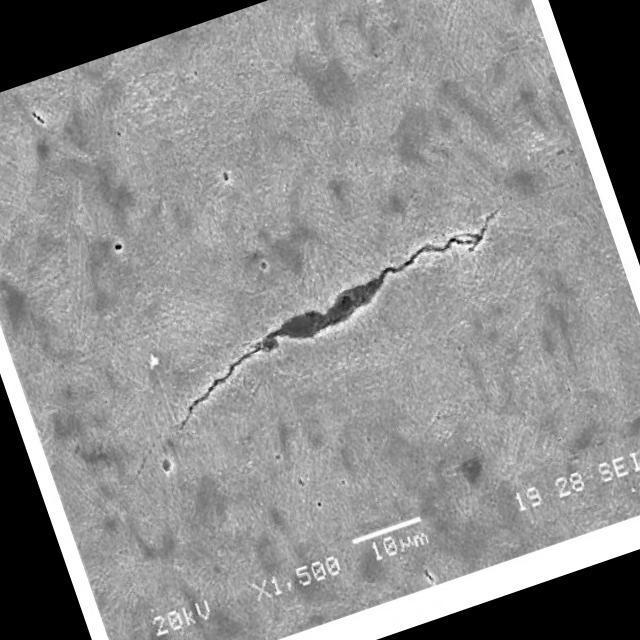defect: (169, 204, 510, 446)
